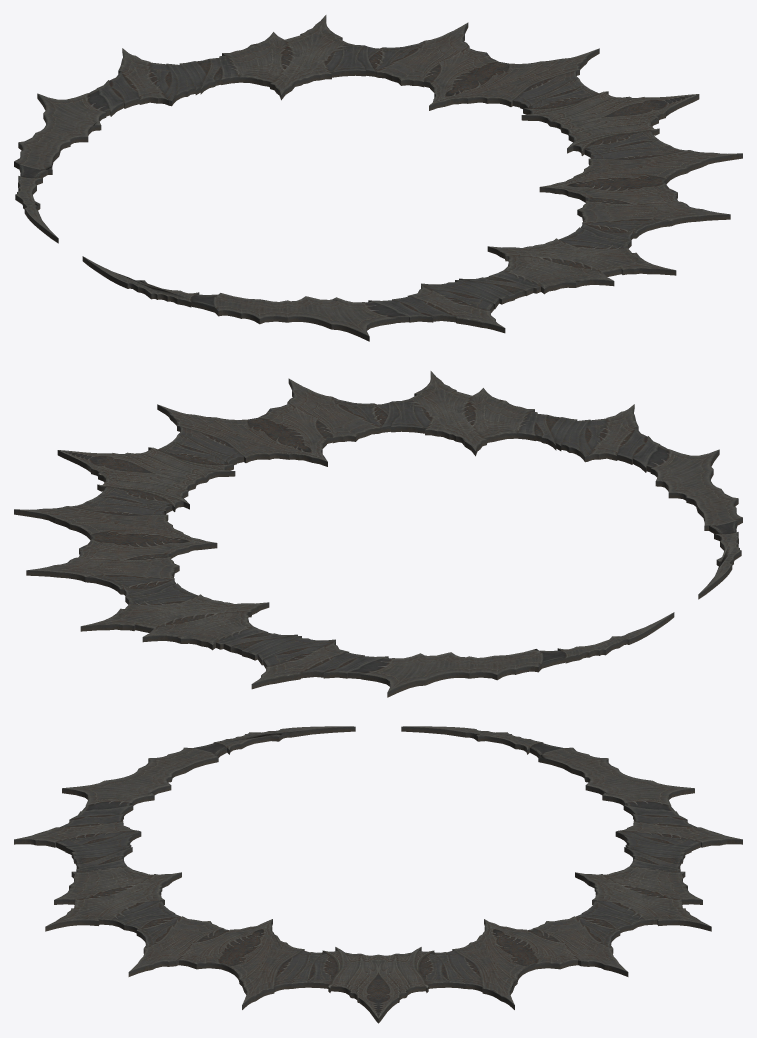
The model's file is bg_rad_kamen_floor05a_sm_hhk.obj.
The picture shows the model from 3 angles, top to bottom: view 1: azimuth 30°, elevation 25°; view 2: azimuth 150°, elevation 25°; view 3: azimuth 270°, elevation 25°; orthographic projection. The views are drawn at different scales.
Parts seen in each view (by area): view 1: bg_rad_kamen_floor05a_sm_hhk_0, bg_rad_kamen_floor05a_sm_hhk_1; view 2: bg_rad_kamen_floor05a_sm_hhk_0, bg_rad_kamen_floor05a_sm_hhk_1; view 3: bg_rad_kamen_floor05a_sm_hhk_0, bg_rad_kamen_floor05a_sm_hhk_1.
Boxes of the visible parts, x1=… form: bg_rad_kamen_floor05a_sm_hhk_0: x1=14, y1=17, x2=742, y2=341; bg_rad_kamen_floor05a_sm_hhk_1: x1=14, y1=15, x2=675, y2=335; bg_rad_kamen_floor05a_sm_hhk_0: x1=14, y1=373, x2=742, y2=697; bg_rad_kamen_floor05a_sm_hhk_1: x1=81, y1=371, x2=742, y2=691; bg_rad_kamen_floor05a_sm_hhk_0: x1=14, y1=726, x2=742, y2=1023; bg_rad_kamen_floor05a_sm_hhk_1: x1=16, y1=726, x2=740, y2=926.
Size of the model in its own units: 14.9 by 0.12 by 15.7.
Materials: 2 (2 with a texture image).
